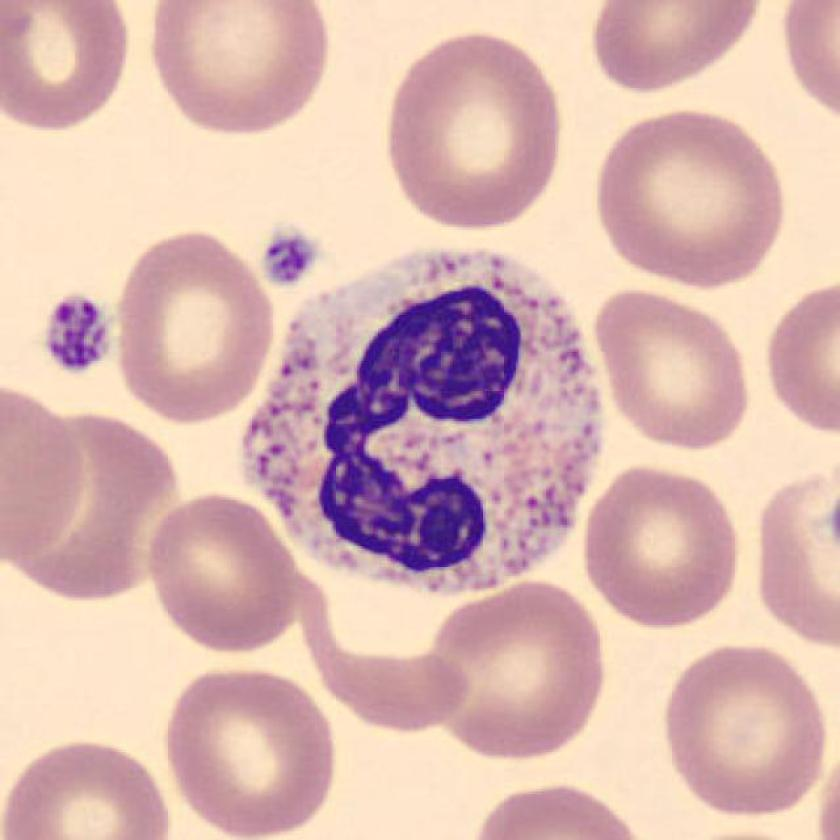neutrophil: (235, 249, 604, 594)
